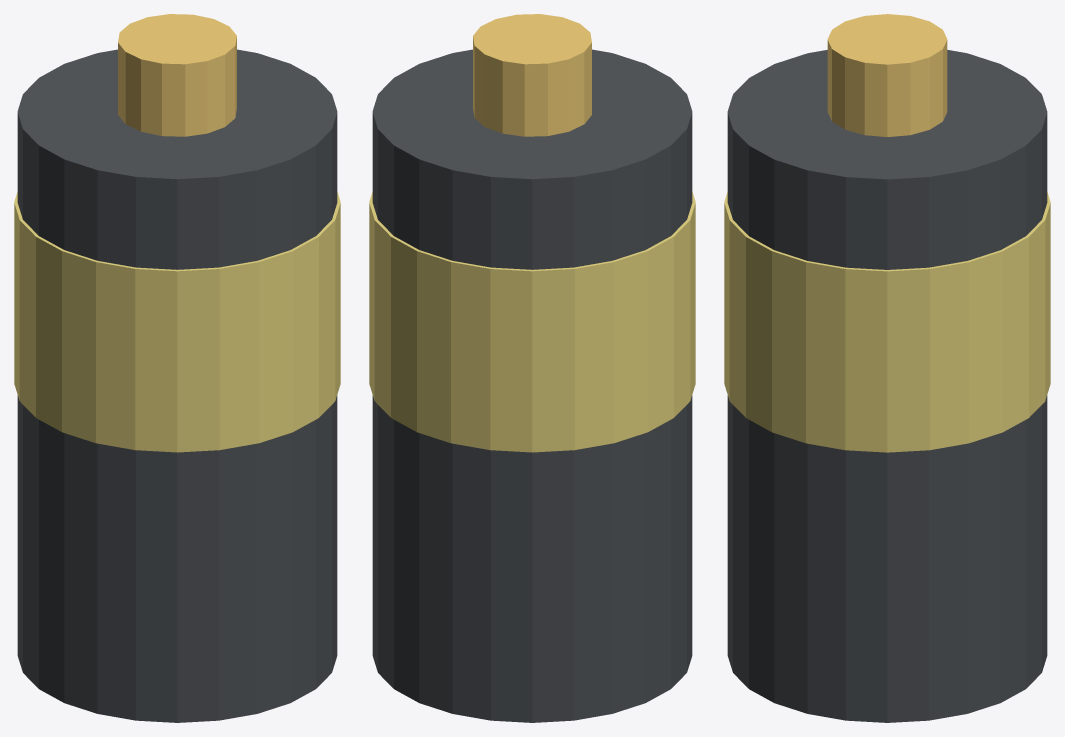
The model's file is battery_dcell.glb.
3 renders of one model, left to right at view 1: azimuth 30°, elevation 25°; view 2: azimuth 150°, elevation 25°; view 3: azimuth 270°, elevation 25°, orthographic.
Visible parts, largest first — view 1: BAT_Body, BAT_Stripe, BAT_ContactNub; view 2: BAT_Body, BAT_Stripe, BAT_ContactNub; view 3: BAT_Body, BAT_Stripe, BAT_ContactNub.
Boxes of the visible parts, box(x1,y1,x2,y2) form: BAT_Body: box(17, 49, 337, 722); BAT_Stripe: box(14, 192, 340, 452); BAT_ContactNub: box(118, 14, 236, 136); BAT_Body: box(372, 49, 692, 722); BAT_Stripe: box(369, 192, 695, 452); BAT_ContactNub: box(473, 14, 591, 136); BAT_Body: box(727, 50, 1047, 722); BAT_Stripe: box(724, 192, 1050, 452); BAT_ContactNub: box(827, 14, 947, 136).
Bounding box in the file's own units: 0.049 × 0.102 × 0.049.
